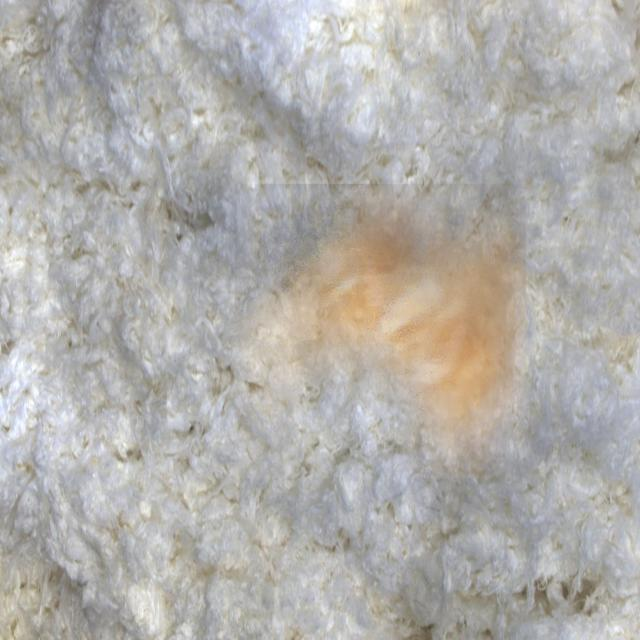dust: (235, 184, 526, 478)
